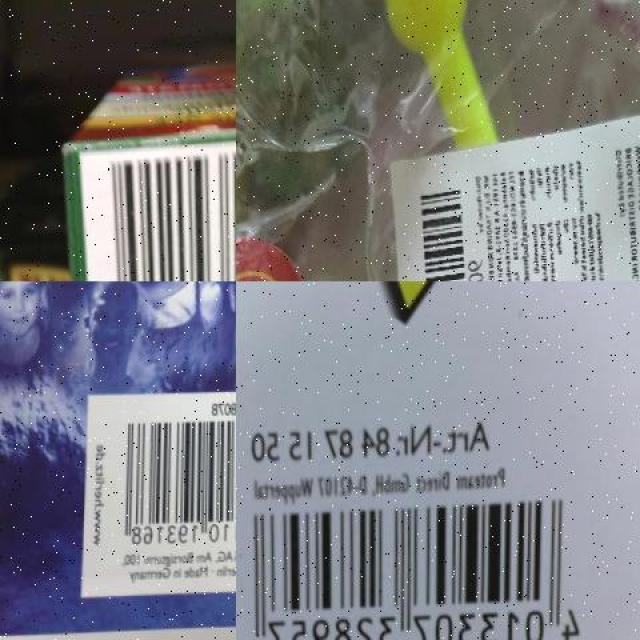Barcode: (236, 493, 595, 640), (77, 126, 236, 282), (112, 414, 236, 550), (411, 171, 486, 281)
